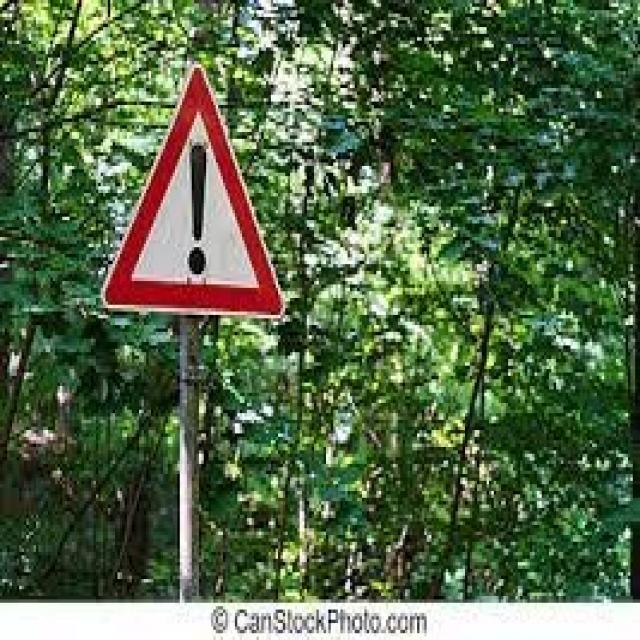warning: (97, 48, 286, 325)
